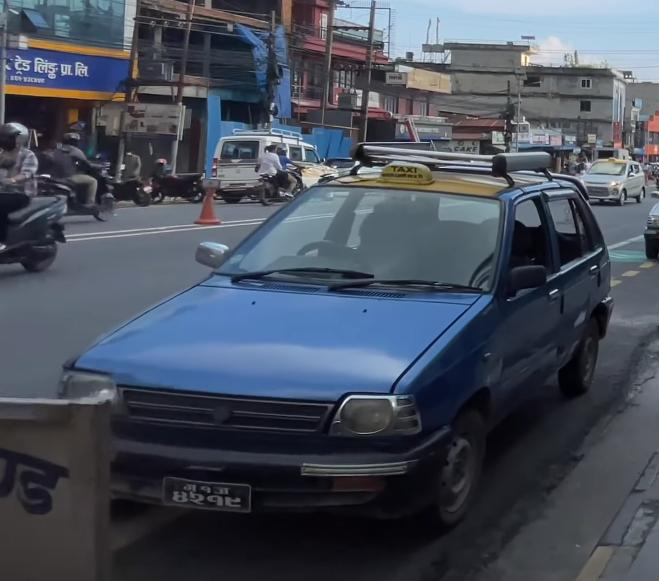bike: (145, 162, 206, 204), (255, 163, 310, 208)
scooter: (0, 160, 68, 275)
taxi: (52, 134, 629, 539), (574, 152, 647, 207)
